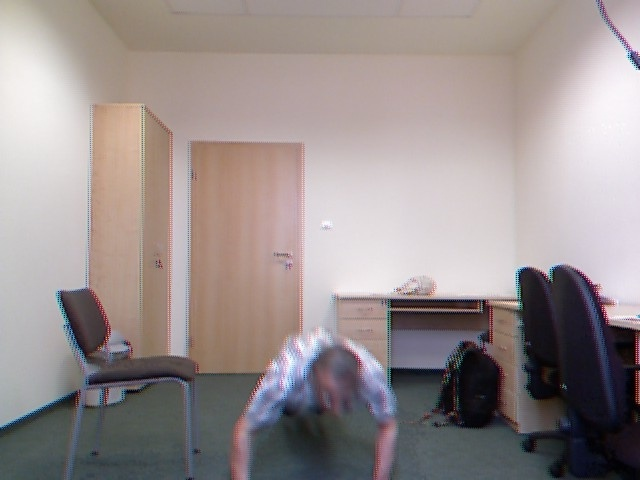fall: (222, 329, 418, 480)
